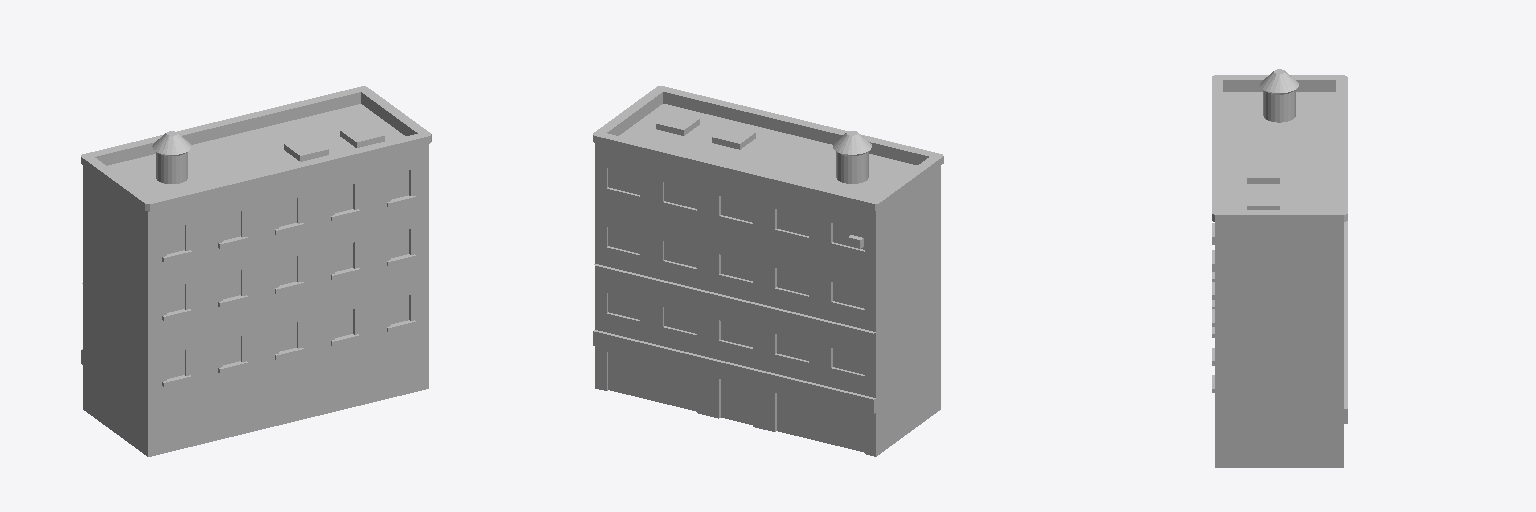
File: large_building_f_taller.obj
3 views of the same model, side by side, from view 1: azimuth 30°, elevation 25°; view 2: azimuth 150°, elevation 25°; view 3: azimuth 270°, elevation 25° (orthographic).
Visible parts, largest first — view 1: large_buildingF.001, large_buildingF.003, large_buildingF.002, large_buildingF; view 2: large_buildingF.001, large_buildingF.002, large_buildingF.003, large_buildingF; view 3: large_buildingF.001, large_buildingF.002, large_buildingF.003, large_buildingF.
Part boxes in pixels (left/top/right/bottom): large_buildingF.001: left=81, top=86, right=431, bottom=265; large_buildingF.003: left=82, top=264, right=428, bottom=397; large_buildingF.002: left=82, top=198, right=428, bottom=331; large_buildingF: left=81, top=330, right=428, bottom=456; large_buildingF.001: left=593, top=86, right=943, bottom=265; large_buildingF.002: left=594, top=198, right=940, bottom=333; large_buildingF.003: left=594, top=266, right=940, bottom=399; large_buildingF: left=593, top=331, right=940, bottom=456; large_buildingF.001: left=1212, top=69, right=1347, bottom=276; large_buildingF.002: left=1212, top=221, right=1347, bottom=342; large_buildingF.003: left=1212, top=272, right=1347, bottom=408; large_buildingF: left=1215, top=409, right=1347, bottom=467.
Bounding box in the file's own units: 4.08 × 3.9 × 1.69.